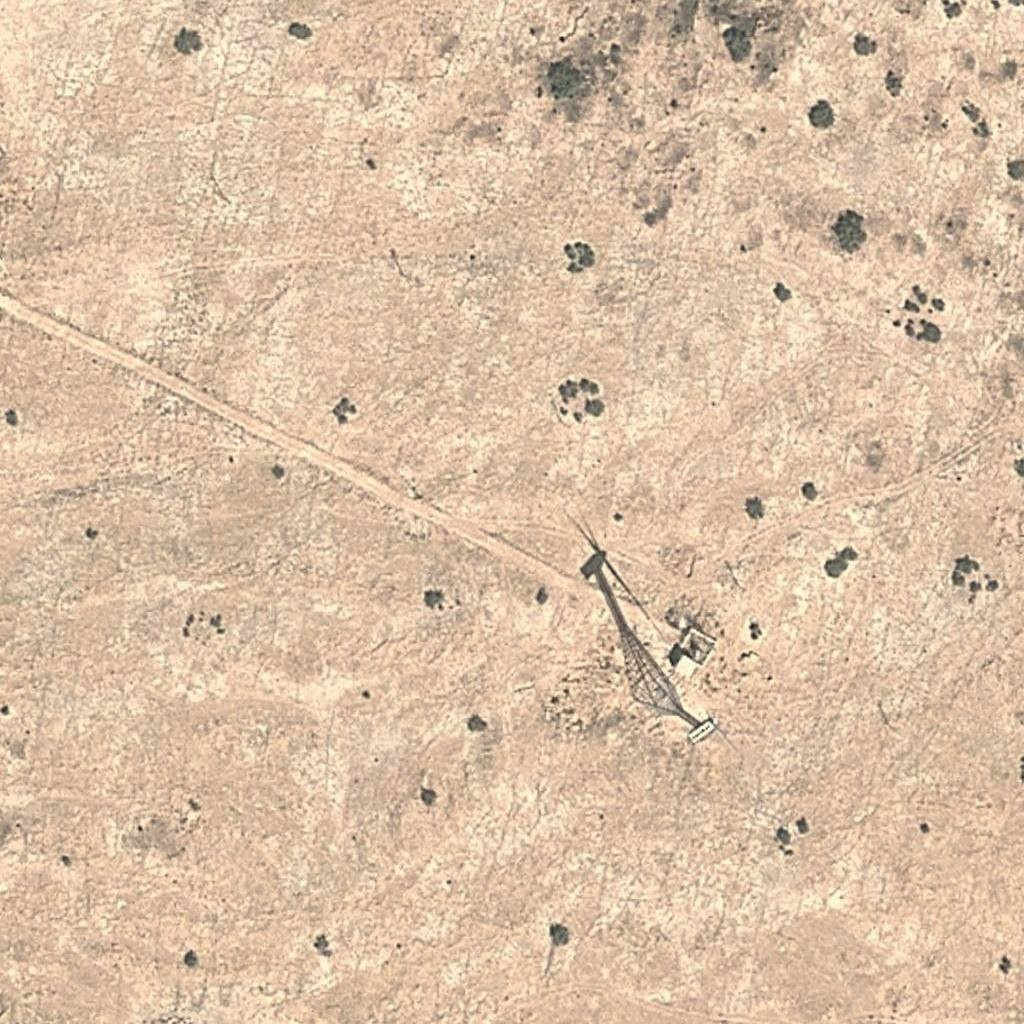Windmill: (563, 509, 710, 717)
